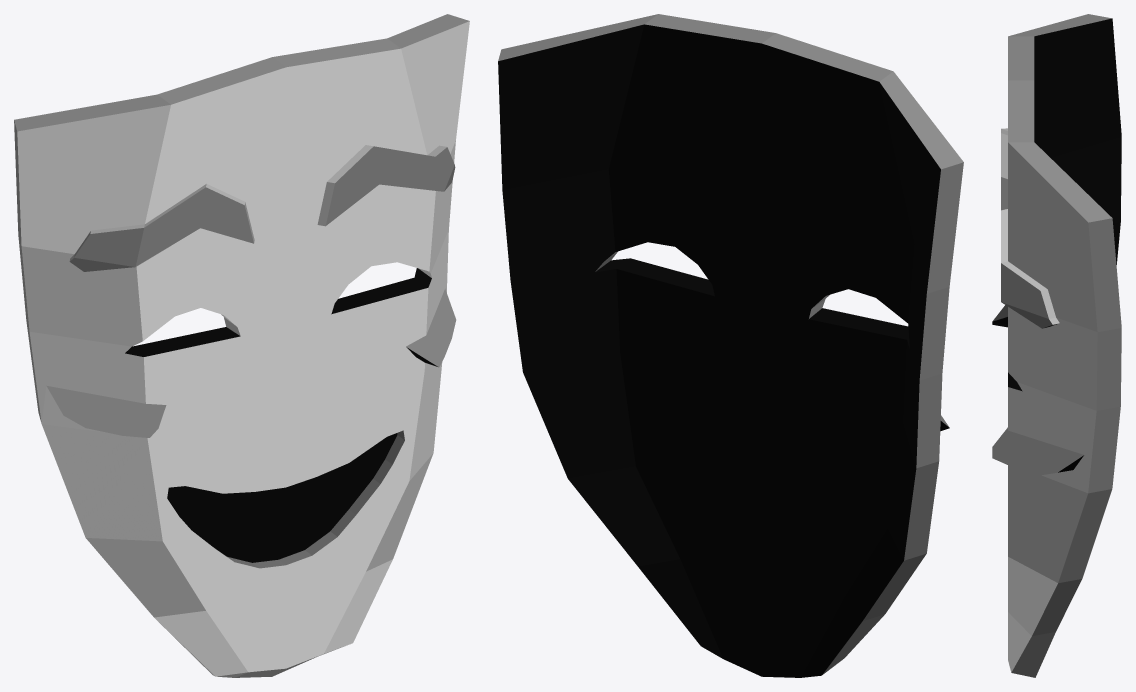
Rendered from JoyMask.fbx.
3 views of the same model, side by side, from view 1: azimuth 30°, elevation 25°; view 2: azimuth 150°, elevation 25°; view 3: azimuth 270°, elevation 25° (orthographic). The views are drawn at different scales.
Visible parts, largest first — view 1: Cube; view 2: Cube; view 3: Cube.
Boxes of the visible parts, x1=… form: Cube: x1=14, y1=14, x2=469, y2=677; Cube: x1=498, y1=14, x2=963, y2=677; Cube: x1=992, y1=14, x2=1121, y2=677.
Size of the model in its own units: 20.76 by 27.16 by 5.45.
